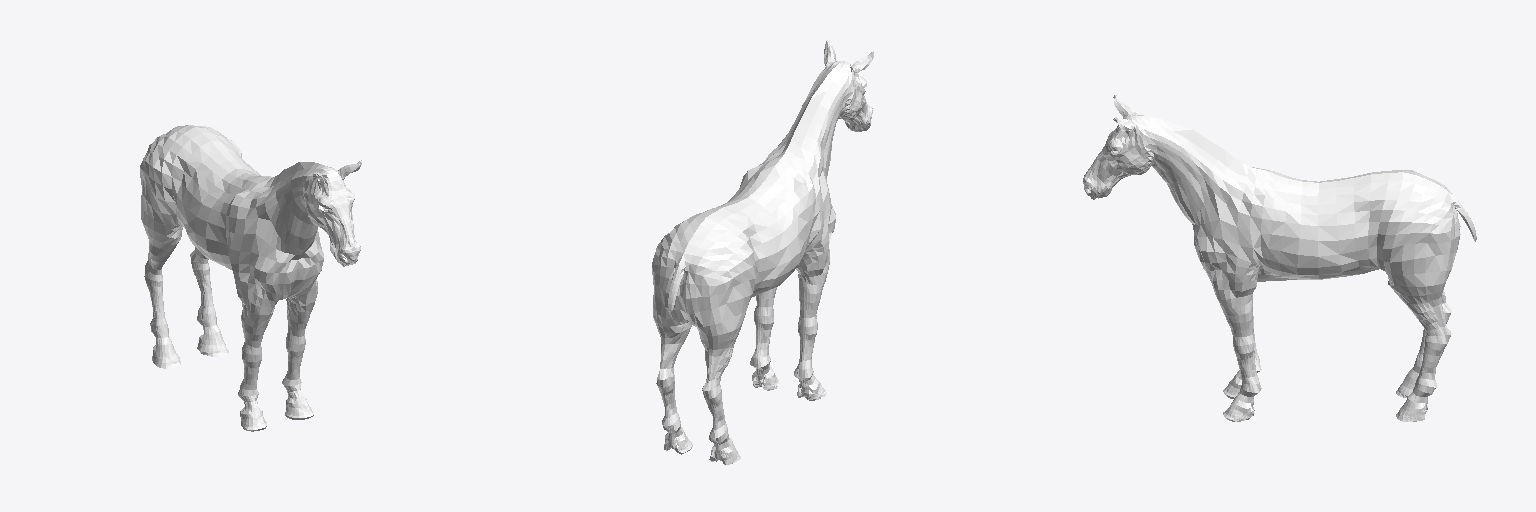
The model's file is horse.obj.
3 renders of one model, left to right at view 1: azimuth 30°, elevation 25°; view 2: azimuth 150°, elevation 25°; view 3: azimuth 270°, elevation 25°, orthographic.
Visible parts, largest first — view 1: horse_palomino_horse_mesh_1; view 2: horse_palomino_horse_mesh_1; view 3: horse_palomino_horse_mesh_1.
Boxes of the visible parts, x1,y1,x2,y2 form: horse_palomino_horse_mesh_1: [140, 125, 361, 431]; horse_palomino_horse_mesh_1: [652, 40, 873, 464]; horse_palomino_horse_mesh_1: [1083, 95, 1476, 421].
Bounding box in the file's own units: 58.7 × 193 × 229.